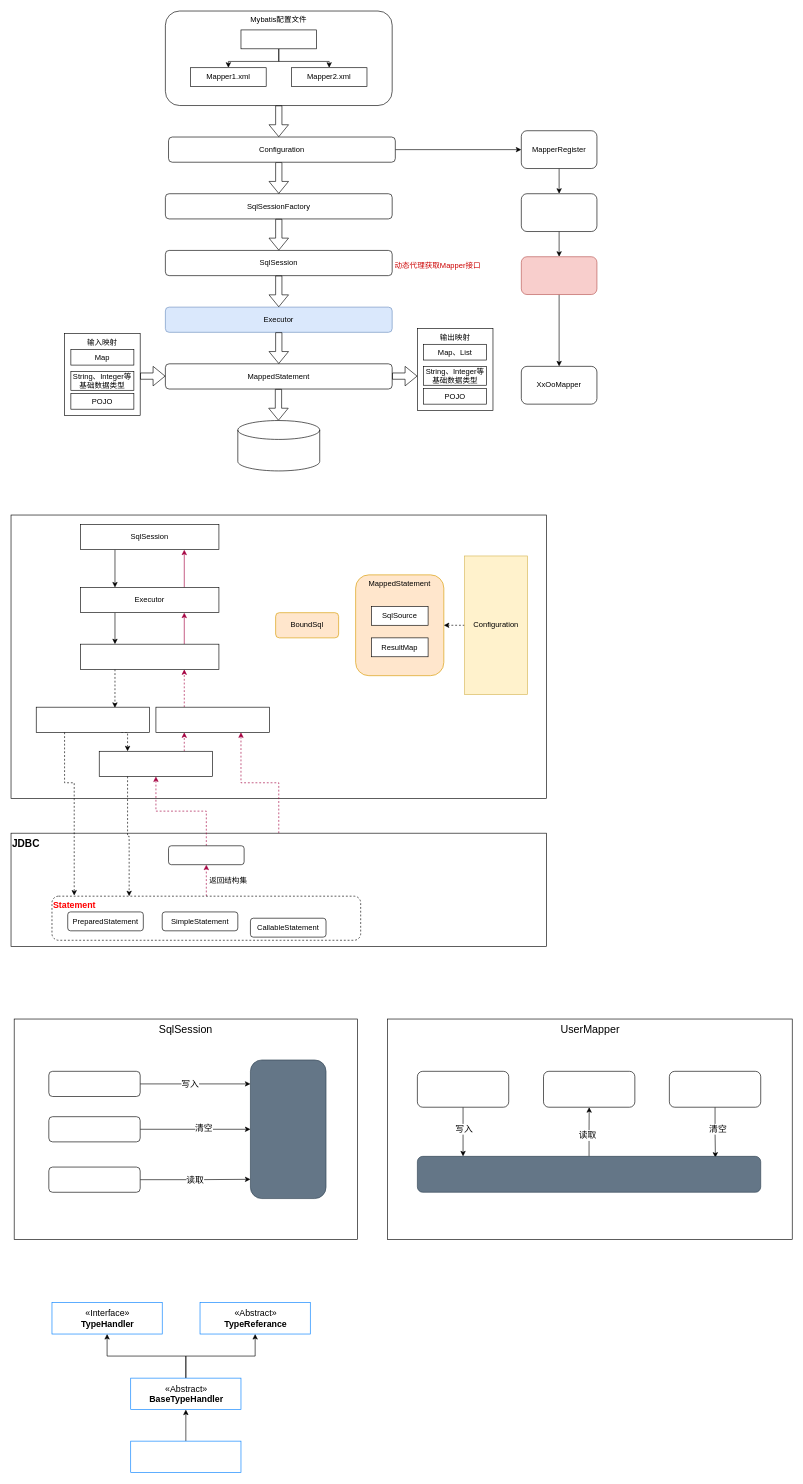
The diagram is 803 pixels wide and 1484 high, and some of its shapes have lost their labels. Here are the shapes that lost their labels. From the top down, the centre of each, then its label:
point (278, 39): mybatis-config.xml
point (559, 212): MapperProxyFactory
point (559, 275): MapperProxy
point (278, 445): 数据库
point (149, 656): StatementHandler
point (93, 719): ParameterHandler
point (212, 719): ResultHandler
point (156, 763): TypeHandler<T>
point (206, 855): ResultSet
point (94, 1084): 第一次查询ID=1的用户
point (463, 1089): sqlSession1 执行UserMapper查询
point (589, 1089): sqlSession2 执行UserMapper查询
point (715, 1089): sqlSession3 执行UserMapper提交（增删该）
point (94, 1129): 增删改等操作commit
point (288, 1129): SqlSession一级缓存区域(Map)
point (94, 1179): 第二次查询ID=1的用户
point (589, 1174): UserMapper的二级缓存区域
point (185, 1456): 具体类处理器
